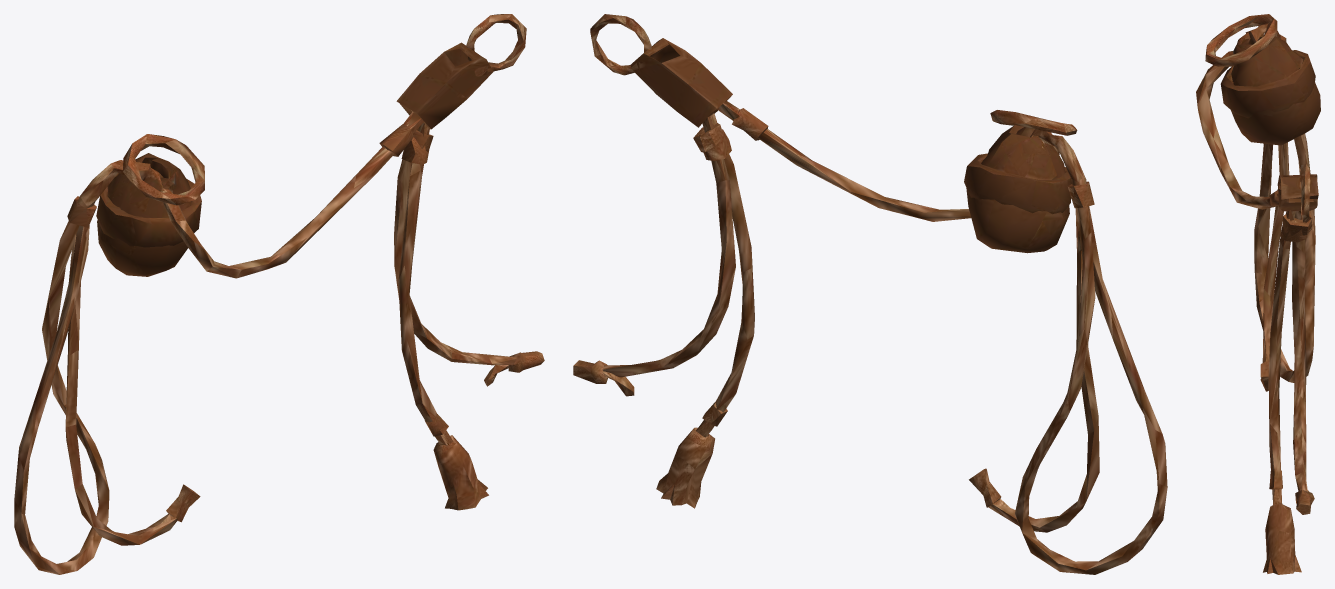
Rendered from gear_sling_1.glb.
3 renders of one model, left to right at view 1: azimuth 30°, elevation 25°; view 2: azimuth 150°, elevation 25°; view 3: azimuth 270°, elevation 25°, orthographic. The views are drawn at different scales.
Parts seen in each view (by area): view 1: MeshyGear_gear_sling; view 2: MeshyGear_gear_sling; view 3: MeshyGear_gear_sling.
Part boxes in pixels (x1=…): MeshyGear_gear_sling: x1=14, y1=14, x2=544, y2=574; MeshyGear_gear_sling: x1=573, y1=14, x2=1167, y2=574; MeshyGear_gear_sling: x1=1196, y1=14, x2=1320, y2=574.
Size of the model in its own units: 0.6198 by 0.5117 by 0.1341.
1 material, 1 textured.
